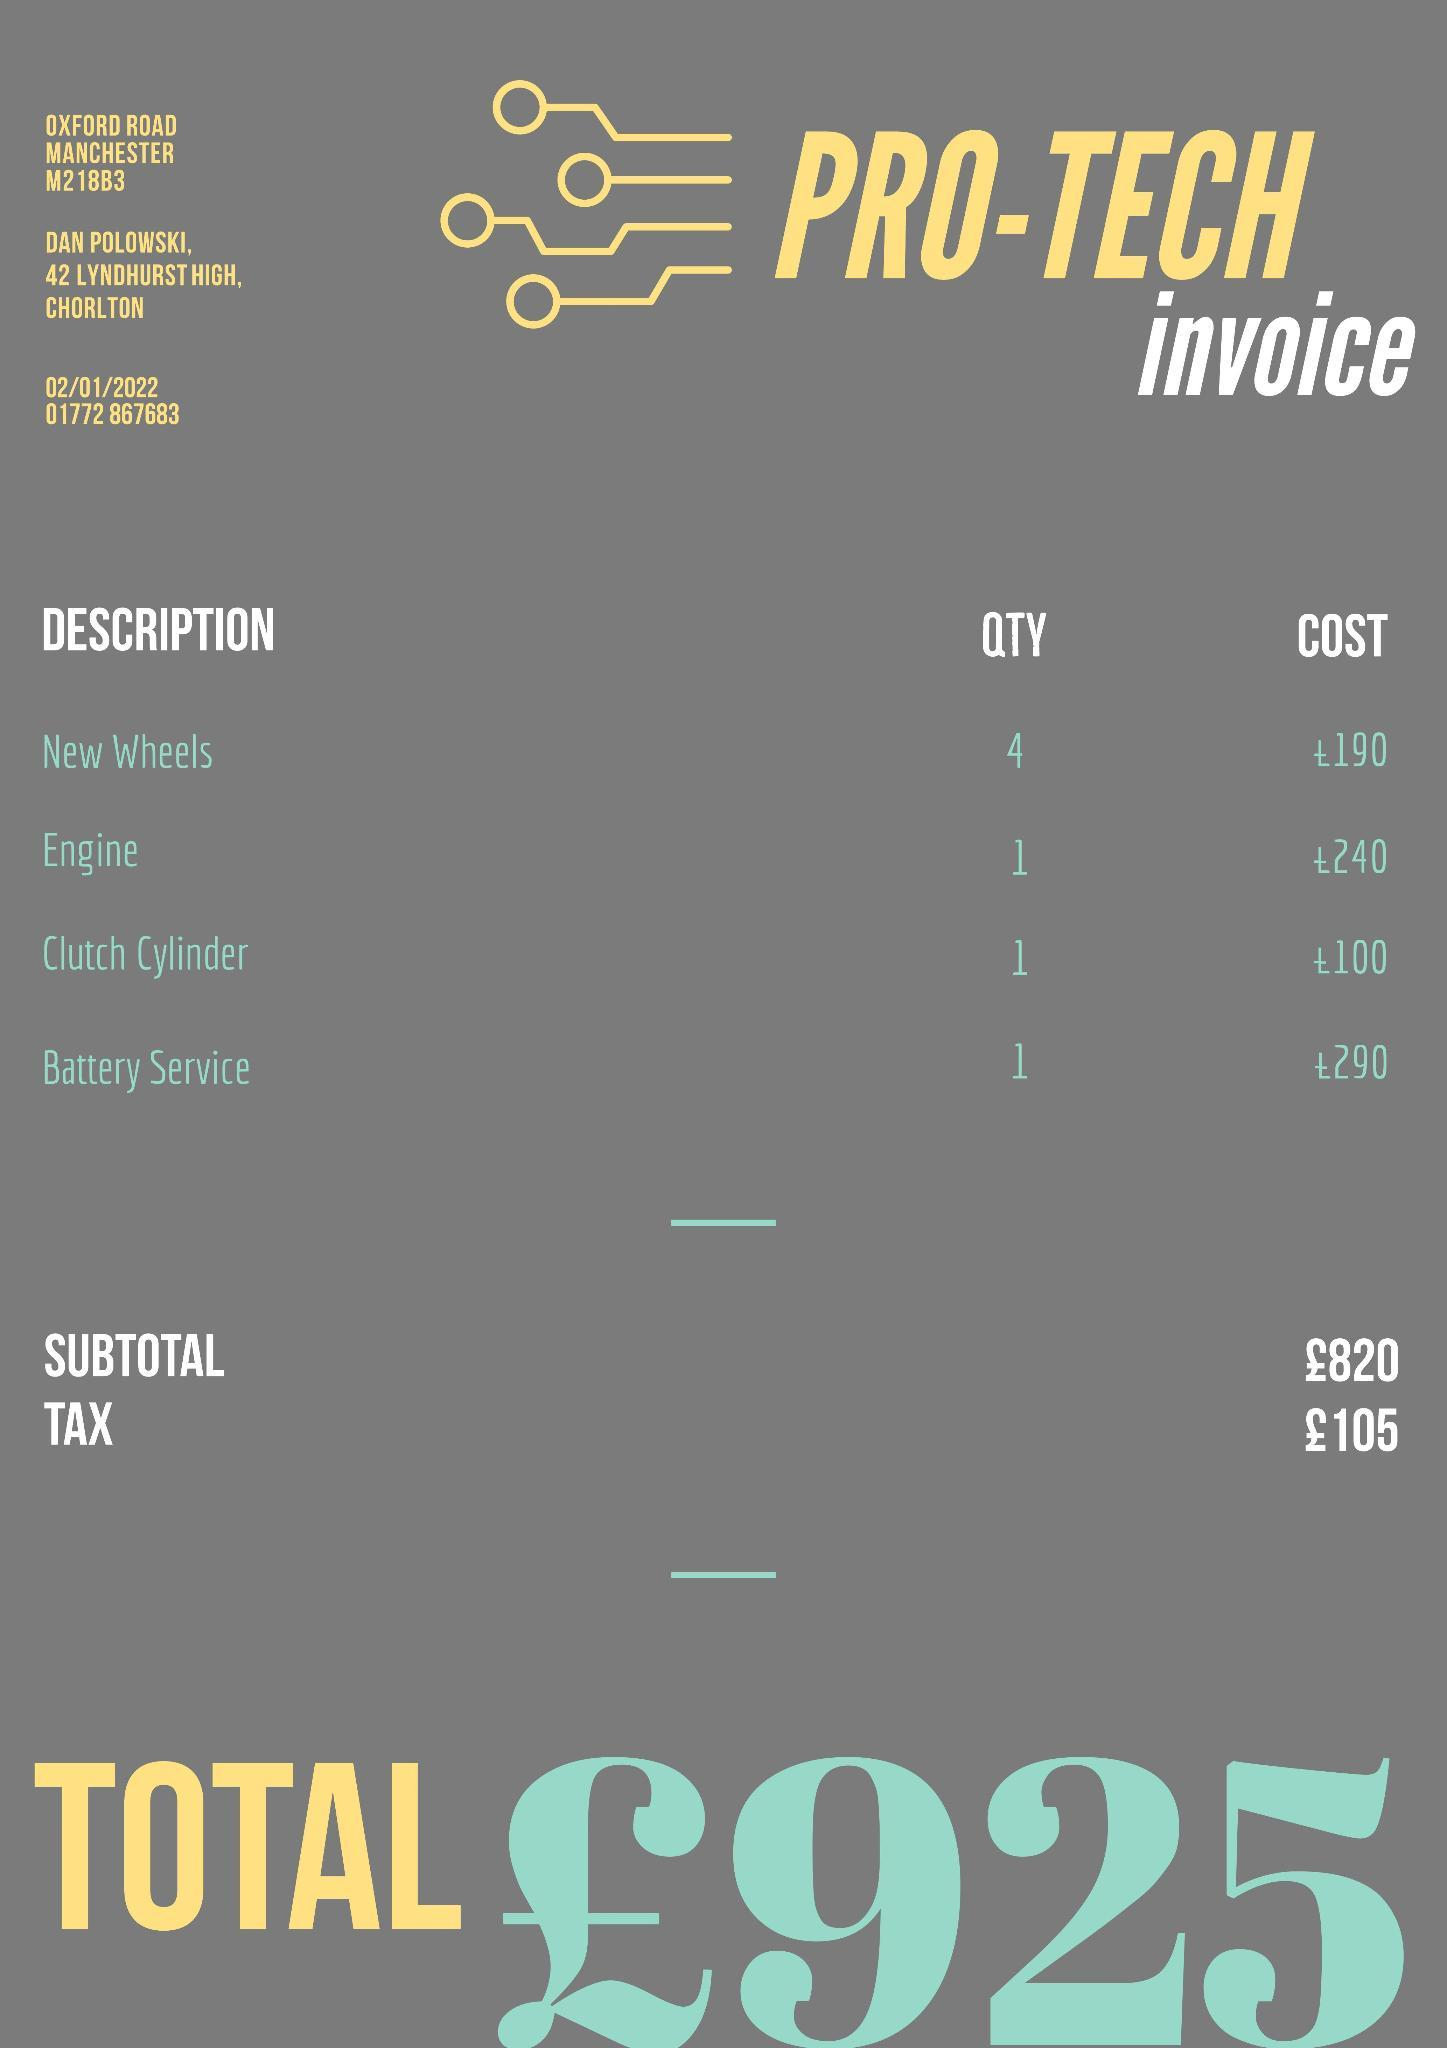ROI: (33, 565, 1430, 1163), (41, 1729, 1425, 2048), (42, 1278, 1430, 1470), (770, 113, 1391, 280), (1129, 287, 1420, 406), (41, 225, 247, 324), (39, 103, 182, 194), (42, 377, 188, 434)
